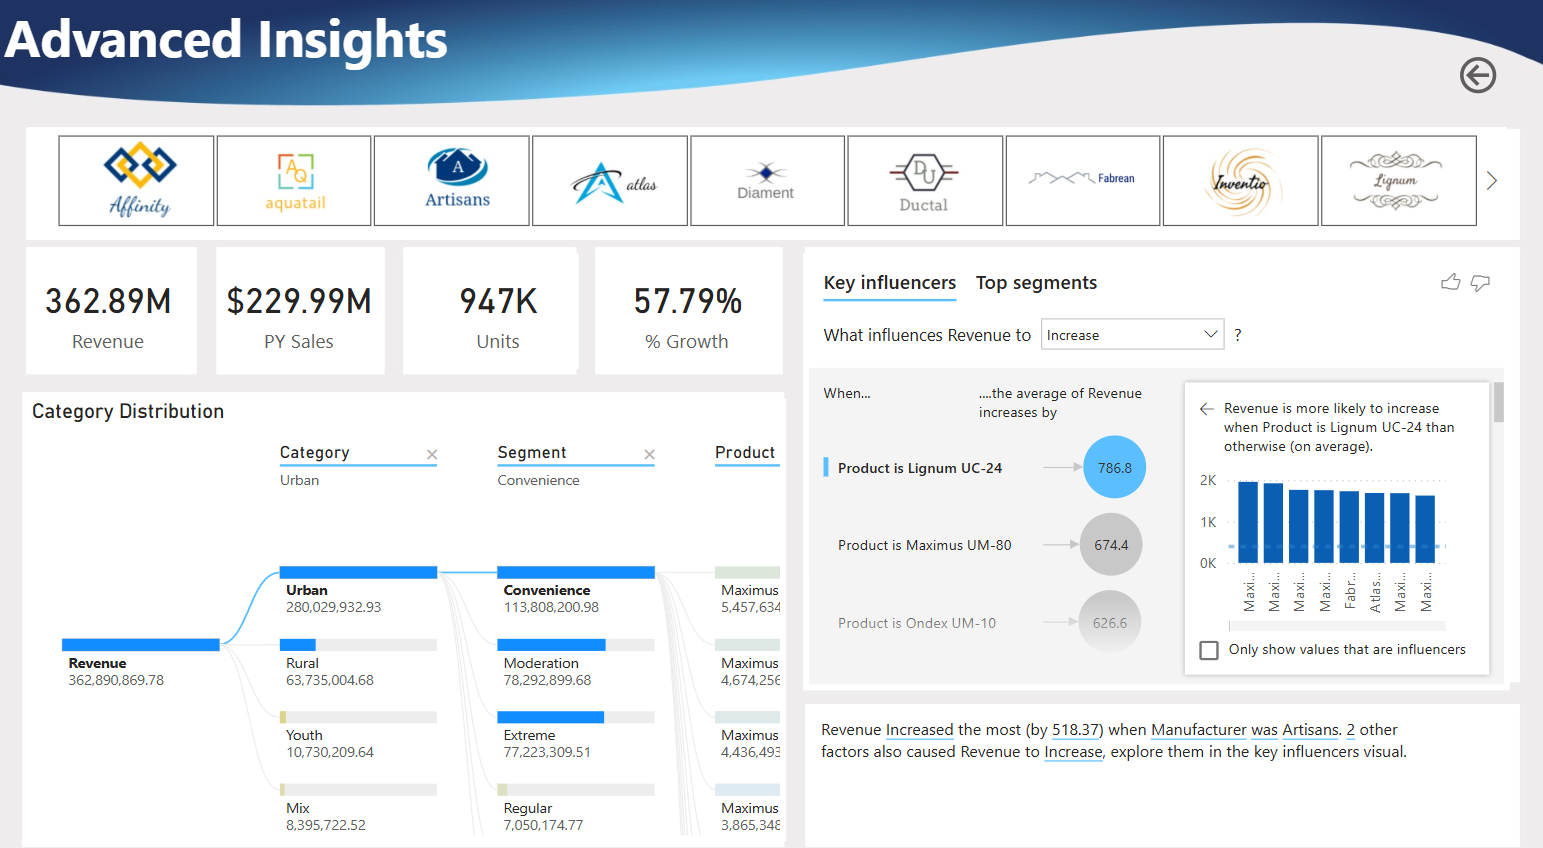

The page's visual inventory and layout, read from the dashboard file:
{"tool":"powerbi","page":{"name":"Advanced Insights","canvas":[1280,720],"ordinal":1},"visuals":[{"type":"decompositionTreeVisual","title":"Category Distribution","fields":{"Analyze":["Sum(Sales.Revenue)"],"ExplainBy":["Products.Category Hierarchy.Category","Products.Category Hierarchy.Segment","Products.Category Hierarchy.Product"]},"box":[23.6,334,628.7,366.4],"z":0},{"type":"keyDriversVisual","fields":{"Target":["Sales.Revenue"],"ExplainBy":["Manufacturer.Manufacturer","Date.Date.Variation.Date Hierarchy.Year","Date.Date.Variation.Date Hierarchy.Quarter","Date.Date.Variation.Date Hierarchy.Month","Date.Date.Variation.Date Hierarchy.Day","Products.Category Hierarchy.Category","Products.Category Hierarchy.Segment","Products.Category Hierarchy.Product"]},"box":[666,213.2,585.5,361.5],"z":1000},{"type":"textbox","box":[675.9,593.3,520.6,84.5],"z":2000},{"type":"slicer","fields":{"Values":["Manufacturer.Logo"]},"box":[24.3,108.9,1223.6,88.5],"z":3000},{"type":"card","fields":{"Values":["Sum(Sales.Revenue)"]},"box":[24.6,213.2,132.6,96.3],"z":4000},{"type":"card","fields":{"Values":["Sales.PY Sales"]},"box":[182.7,213.2,132.6,96.3],"z":5000},{"type":"card","fields":{"Values":["Sum(Sales.Units)"]},"box":[347.8,213.2,132.6,96.3],"z":6000},{"type":"card","fields":{"Values":["Sales.% Growth"]},"box":[503.9,213.2,132.6,96.3],"z":7000},{"type":"actionButton","box":[1205.3,46.2,46.2,40.3],"z":8000},{"type":"textbox","box":[0,0,464.7,74.7],"z":9000}]}

Visuals, with their boxes in screenshot pixels (x1, y1, x2, y2), scaled from the page's 1280x720 canvas onto the 1543x848 screenshot:
"Category Distribution" decompositionTreeVisual: l=28, t=393, r=786, b=825
keyDriversVisual - Sales.Revenue x Manufacturer.Manufacturer: l=803, t=251, r=1509, b=677
textbox: l=815, t=699, r=1442, b=798
slicer - Manufacturer.Logo: l=29, t=128, r=1504, b=232
card - Sum(Sales.Revenue): l=30, t=251, r=189, b=365
card - Sales.PY Sales: l=220, t=251, r=380, b=365
card - Sum(Sales.Units): l=419, t=251, r=579, b=365
card - Sales.% Growth: l=607, t=251, r=767, b=365
actionButton: l=1453, t=54, r=1509, b=102
textbox: l=0, t=0, r=560, b=88
